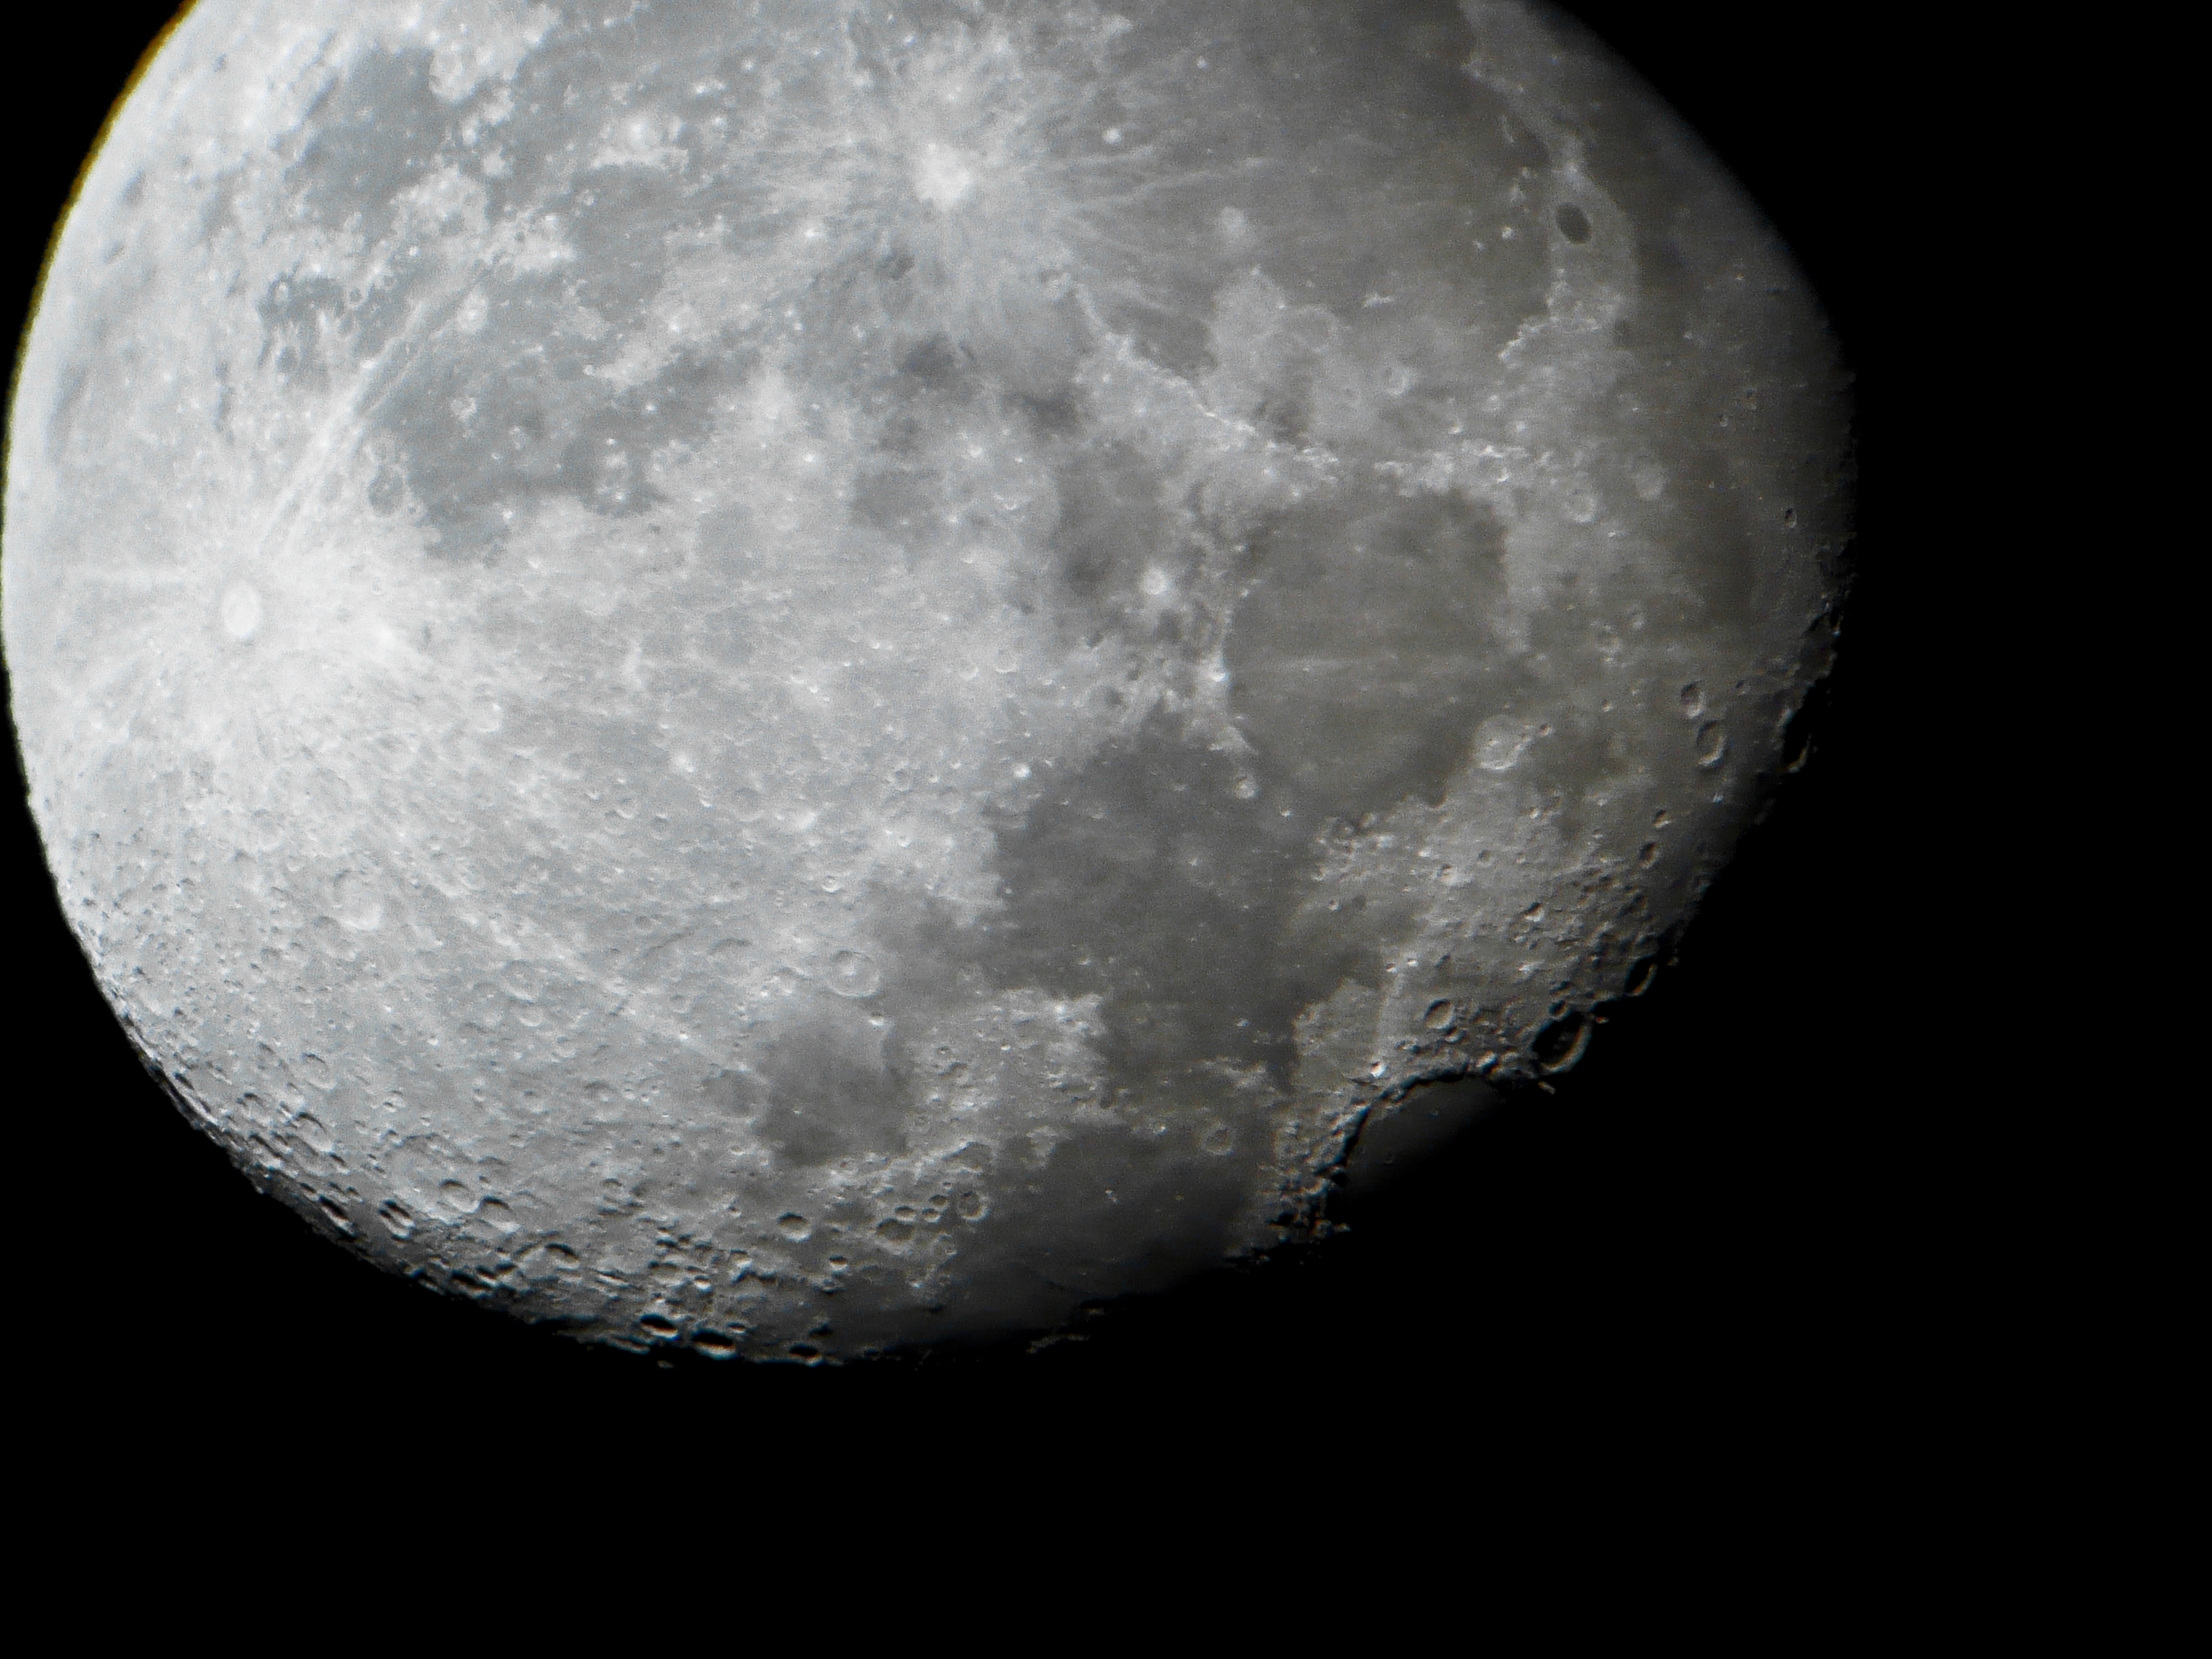crater: (827, 64, 1059, 317), (157, 507, 315, 706), (1353, 335, 1442, 413), (1538, 188, 1613, 281), (1458, 709, 1531, 782), (1104, 547, 1184, 612), (1406, 974, 1468, 1044), (815, 945, 890, 1002), (1757, 477, 1811, 556), (425, 1164, 488, 1227), (1190, 1115, 1254, 1175), (754, 1202, 826, 1251), (1264, 786, 1315, 842), (326, 270, 380, 312), (953, 1183, 998, 1229), (1670, 671, 1707, 720), (1585, 681, 1622, 725), (1703, 401, 1733, 444), (1529, 713, 1561, 749)
